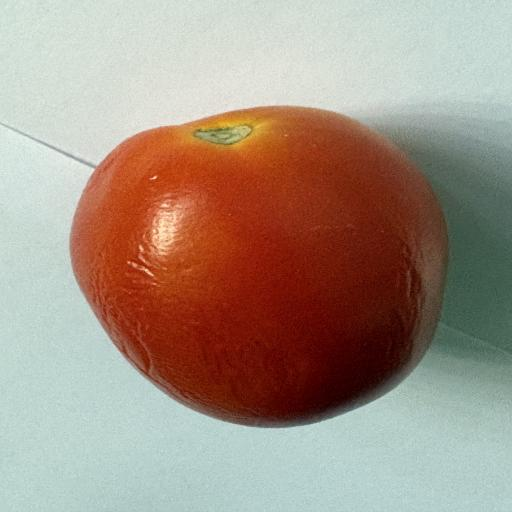spoiled: (70, 107, 448, 427)
